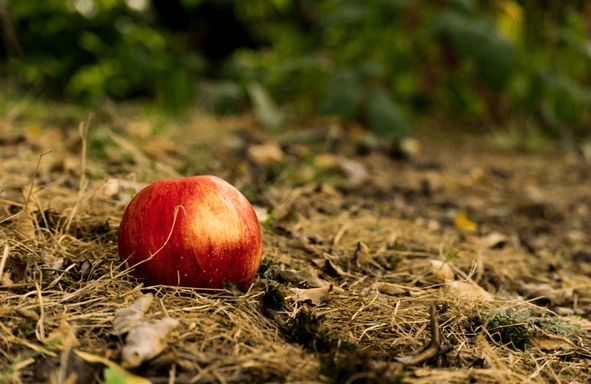apple/: (110, 175, 276, 295)
